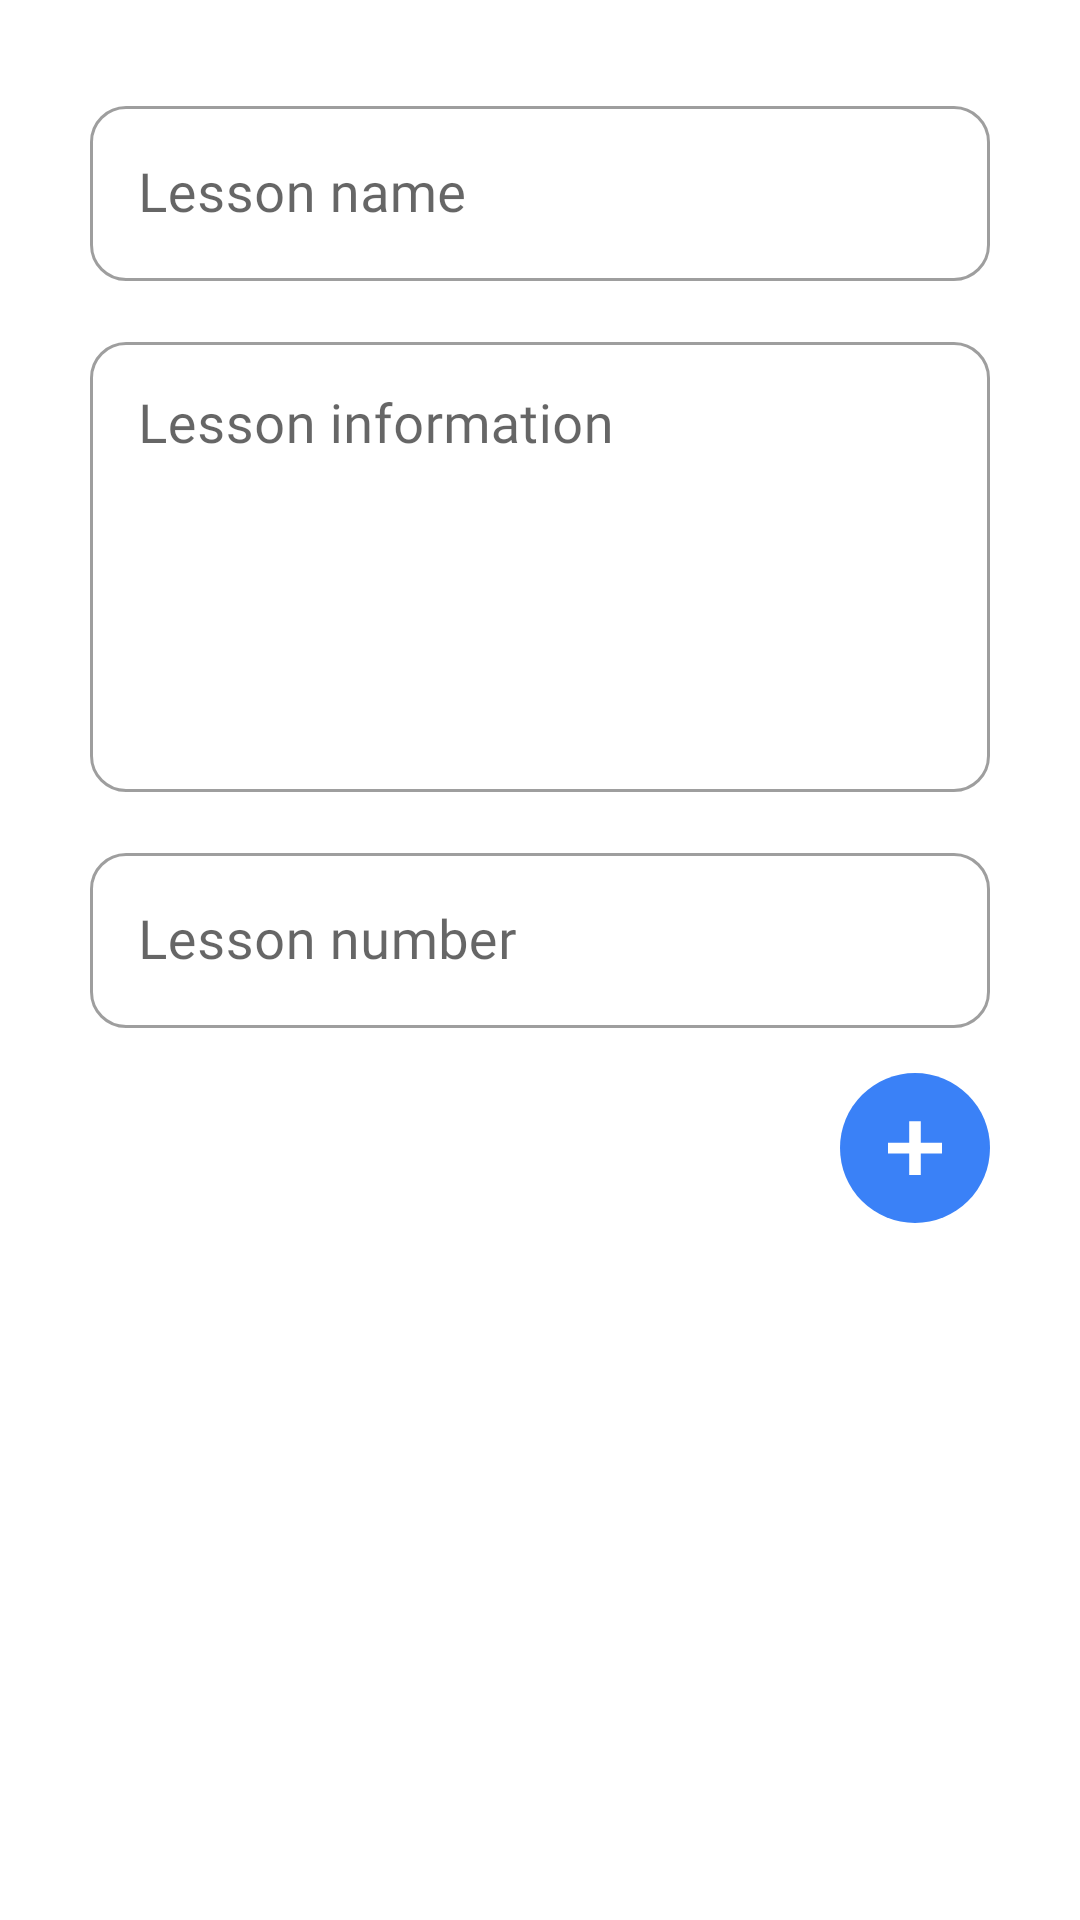

Where to tap for icons on this 1080px x 1920px app screen, as [x,y]:
add: [915,1148]
